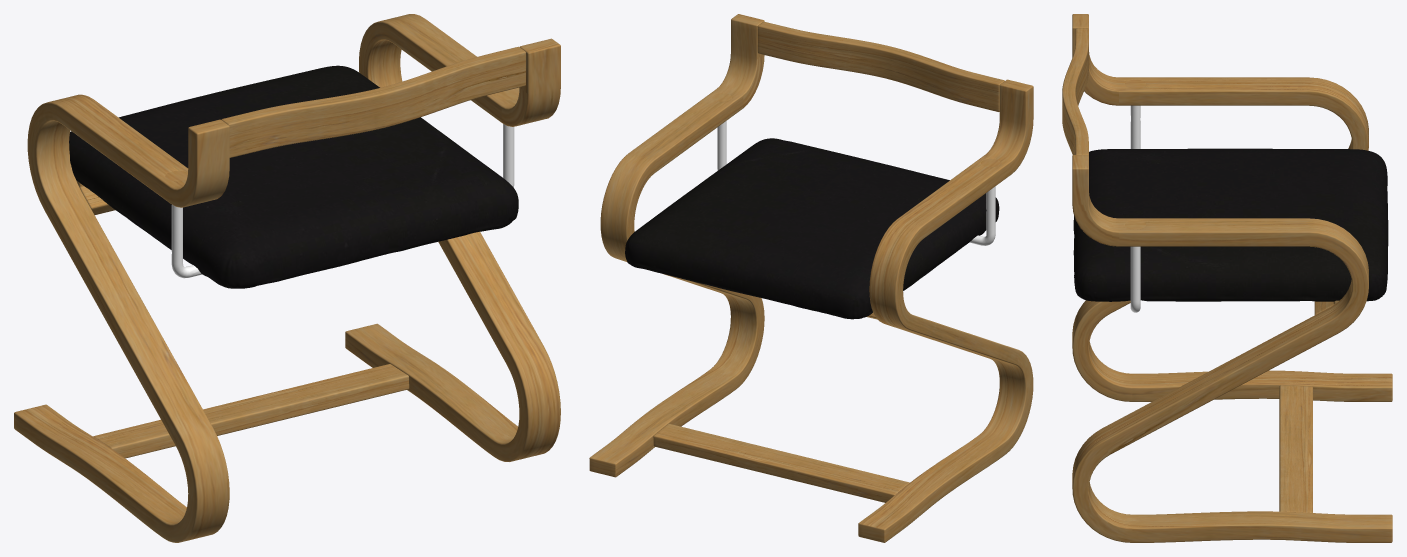
Rendered from zidle_03.gltf.
The picture shows the model from 3 angles, left to right: view 1: azimuth 30°, elevation 25°; view 2: azimuth 150°, elevation 25°; view 3: azimuth 270°, elevation 25°; orthographic projection. The views are drawn at different scales.
Parts seen in each view (by area): view 1: object_17.005, object_16.003, object_16.005, object_4.006, object_3.008, object_14.003; view 2: object_17.005, object_16.003, object_16.005, object_4.006, object_3.008, object_14.003; view 3: object_17.005, object_16.005, object_16.003, object_3.008, object_4.006, object_14.003.
Part boxes in pixels (bbox=[...]): object_17.005: bbox=[69, 65, 518, 288]; object_16.003: bbox=[14, 94, 229, 542]; object_16.005: bbox=[345, 14, 560, 461]; object_4.006: bbox=[221, 46, 525, 157]; object_3.008: bbox=[93, 364, 409, 458]; object_14.003: bbox=[171, 124, 514, 278]; object_17.005: bbox=[625, 138, 999, 319]; object_16.003: bbox=[858, 79, 1033, 542]; object_16.005: bbox=[589, 14, 764, 477]; object_4.006: bbox=[757, 21, 1004, 111]; object_3.008: bbox=[653, 424, 909, 502]; object_14.003: bbox=[717, 121, 995, 245]; object_17.005: bbox=[1073, 148, 1388, 301]; object_16.005: bbox=[1072, 155, 1392, 542]; object_16.003: bbox=[1072, 14, 1392, 401]; object_3.008: bbox=[1279, 385, 1312, 512]; object_4.006: bbox=[1062, 28, 1088, 155]; object_14.003: bbox=[1130, 105, 1140, 312].
Bounding box in the file's own units: 0.5499 × 0.62 × 0.4954.
Materials: 4 (2 with a texture image).
